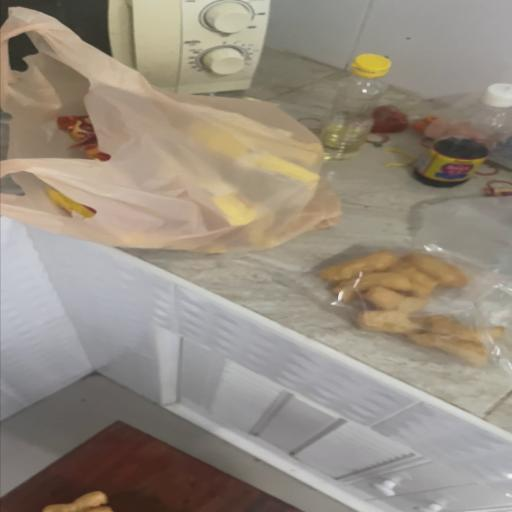street_golden_defect: (0, 8, 334, 255)
